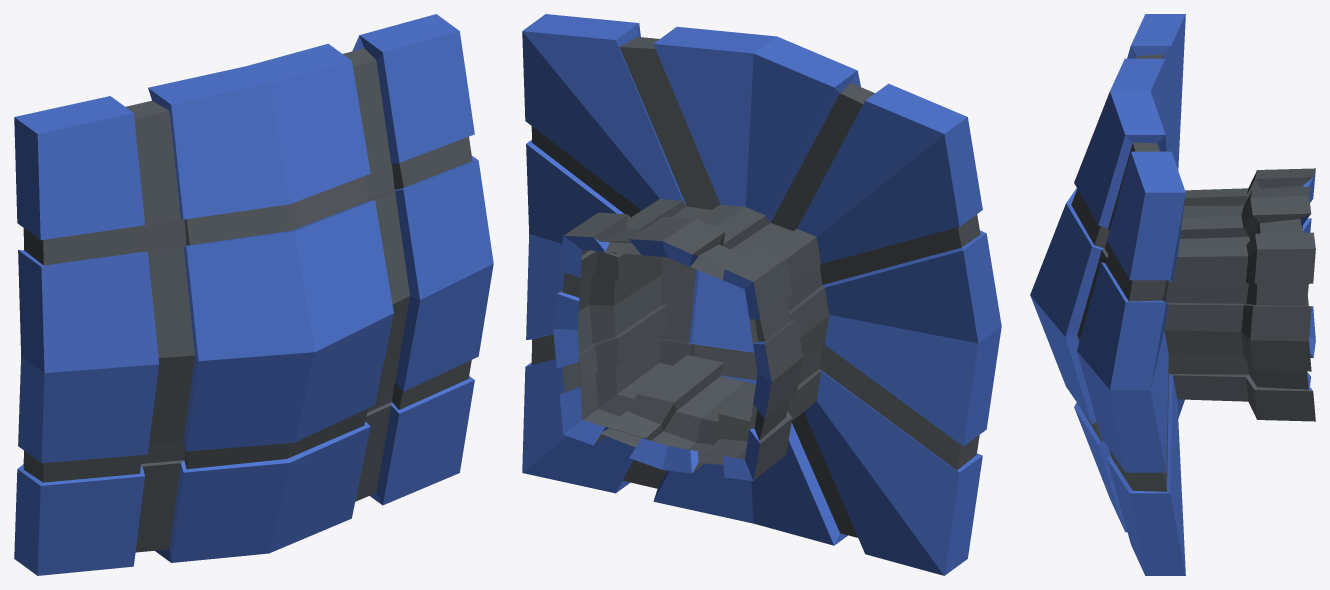
The model's file is Personal_Vehicle_01_Bumper_Blue.fbx.
3 renders of one model, left to right at view 1: azimuth 30°, elevation 25°; view 2: azimuth 150°, elevation 25°; view 3: azimuth 270°, elevation 25°, orthographic. The views are drawn at different scales.
Visible parts, largest first — view 1: Personal_Vehicle_01_Bumper_Blue; view 2: Personal_Vehicle_01_Bumper_Blue; view 3: Personal_Vehicle_01_Bumper_Blue.
Boxes of the visible parts, x1,y1,x2,y2 form: Personal_Vehicle_01_Bumper_Blue: (14, 14, 493, 575); Personal_Vehicle_01_Bumper_Blue: (522, 14, 1001, 575); Personal_Vehicle_01_Bumper_Blue: (1030, 14, 1315, 575).
Size of the model in its own units: 37.83 by 37.83 by 24.03.
Materials: 1 (1 with a texture image).
